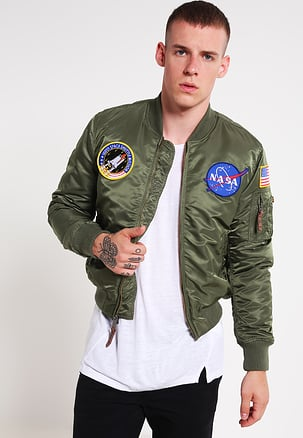NASA: (204, 162, 247, 197)
